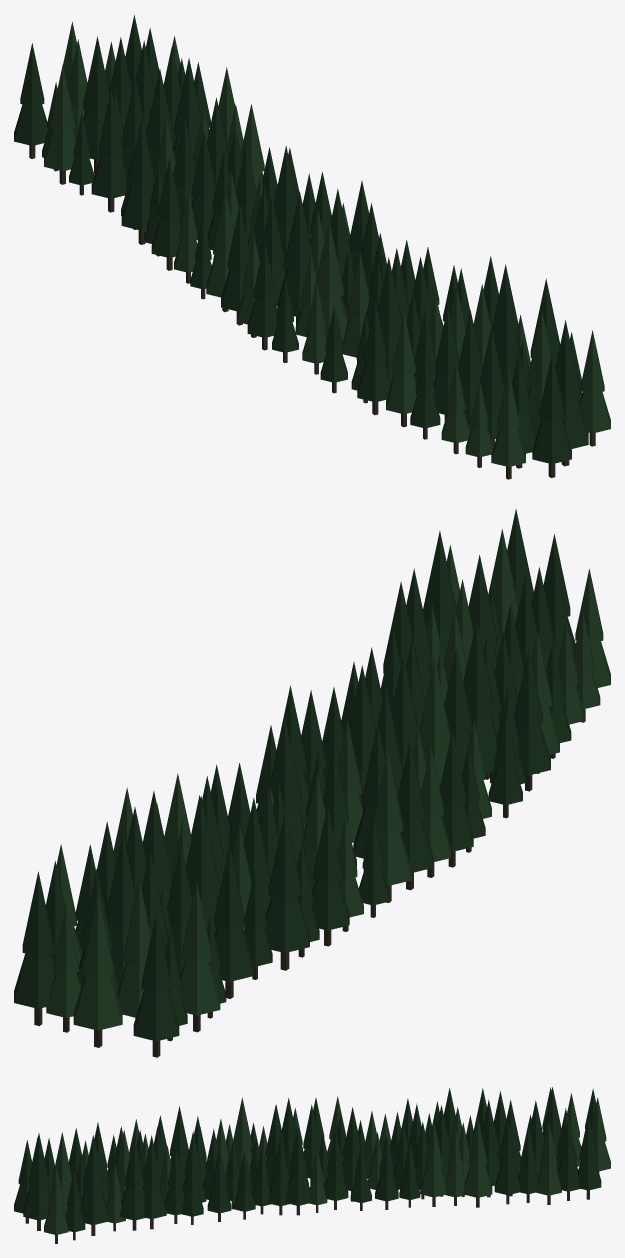
Rendered from forest_edge_13.glb.
The picture shows the model from 3 angles, top to bottom: view 1: azimuth 30°, elevation 25°; view 2: azimuth 150°, elevation 25°; view 3: azimuth 270°, elevation 25°; orthographic projection. The views are drawn at different scales.
Parts seen in each view (by area): view 1: chunk_0_0; view 2: chunk_0_0; view 3: chunk_0_0.
Part boxes in pixels (x1,y1,x2,y2): chunk_0_0: (14,15,610,479); chunk_0_0: (14,509,610,1057); chunk_0_0: (14,1087,610,1243).
Size of the model in its own units: 38.53 by 32.08 by 147.
